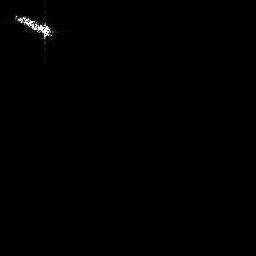ship: (12, 12, 56, 43)
